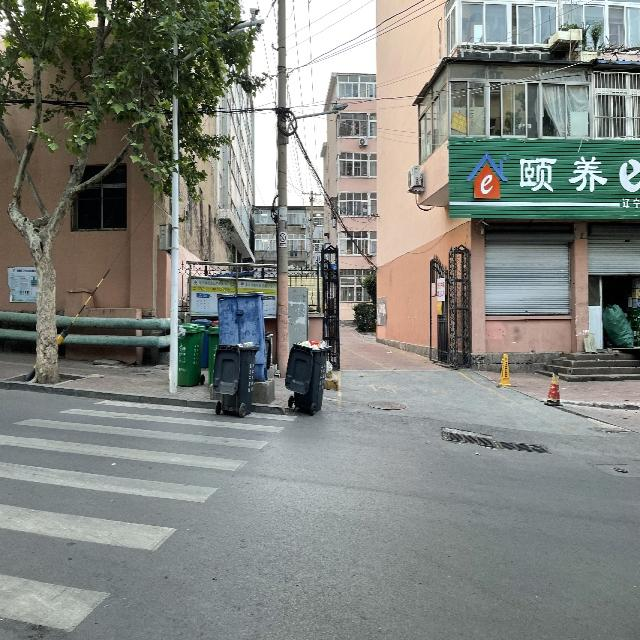garbage_bin: (212, 340, 260, 414), (178, 322, 204, 385), (191, 317, 211, 366), (206, 325, 219, 385)
overflow: (284, 338, 328, 412)
